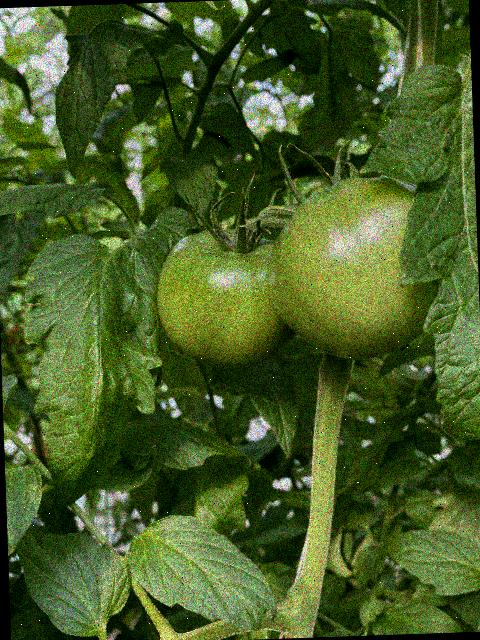b_green: (265, 174, 448, 363), (155, 225, 299, 373)
